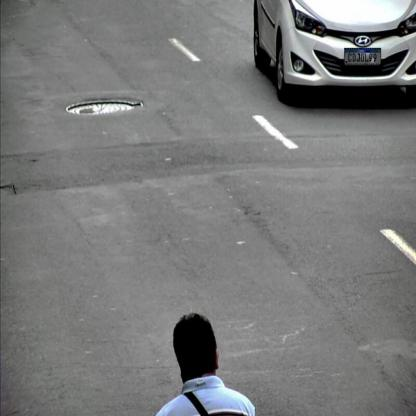PlacaM: (344, 48, 381, 64)
